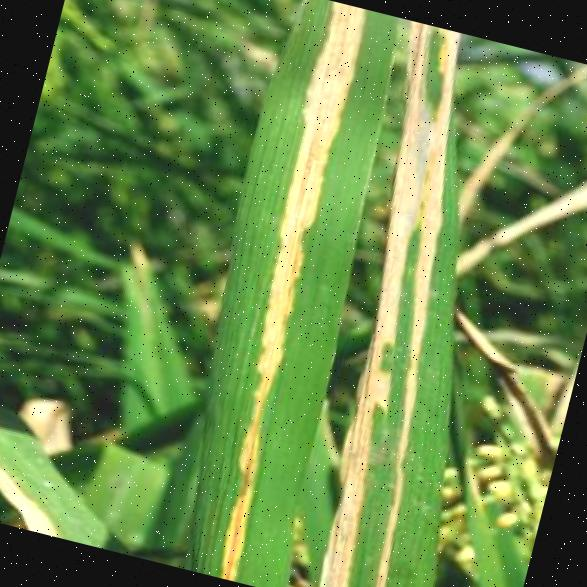Bacteria_Leaf_Blight: (145, 0, 420, 584), (268, 21, 550, 587)
